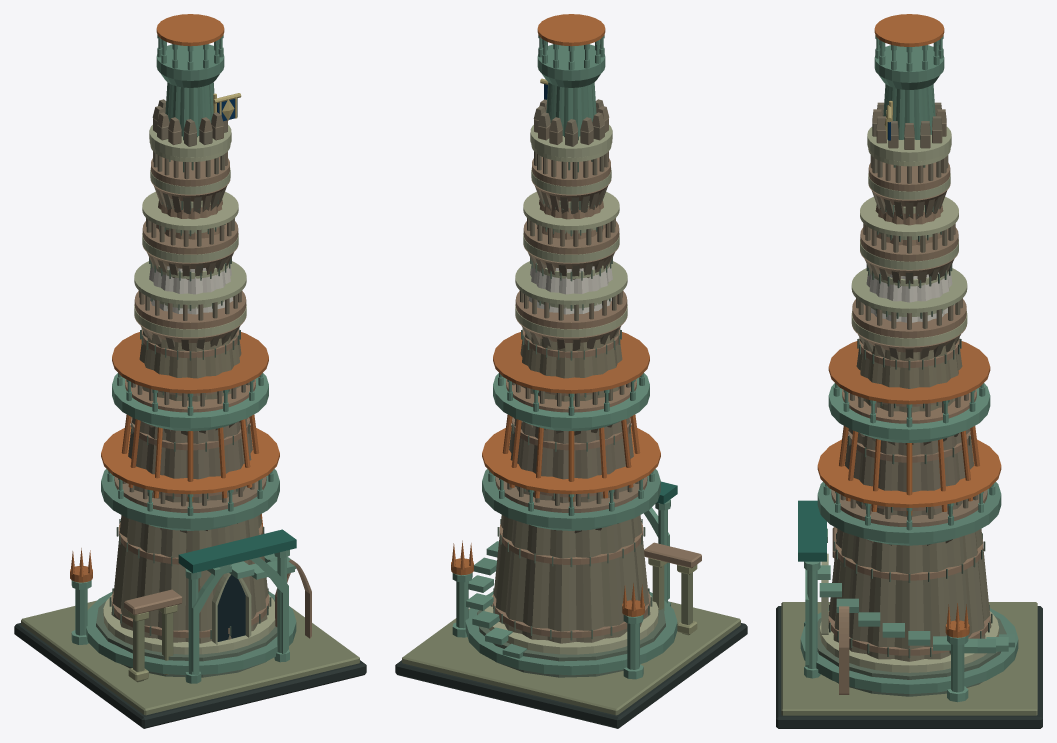
The picture shows the model from 3 angles, left to right: view 1: azimuth 30°, elevation 25°; view 2: azimuth 150°, elevation 25°; view 3: azimuth 270°, elevation 25°; orthographic projection. The views are drawn at different scales.
Visible parts, largest first — view 1: archer_tower_L8_0, archer_tower_L8_1; view 2: archer_tower_L8_0, archer_tower_L8_1; view 3: archer_tower_L8_0, archer_tower_L8_1.
Part boxes in pixels (x1,y1,x2,y2): archer_tower_L8_0: (14,35,366,728); archer_tower_L8_1: (70,14,279,582); archer_tower_L8_0: (395,35,747,728); archer_tower_L8_1: (451,14,660,616); archer_tower_L8_0: (776,35,1042,728); archer_tower_L8_1: (817,14,1001,637).
Size of the model in its own units: 3.6 by 9.6 by 3.6.
